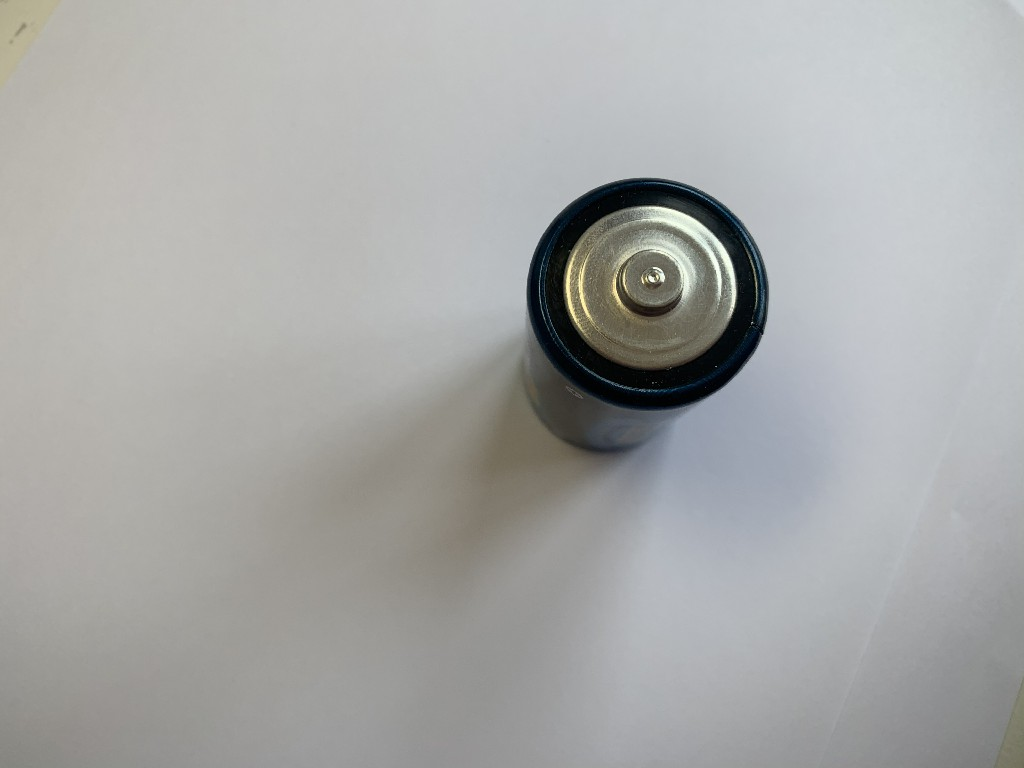charge: (517, 171, 777, 460)
